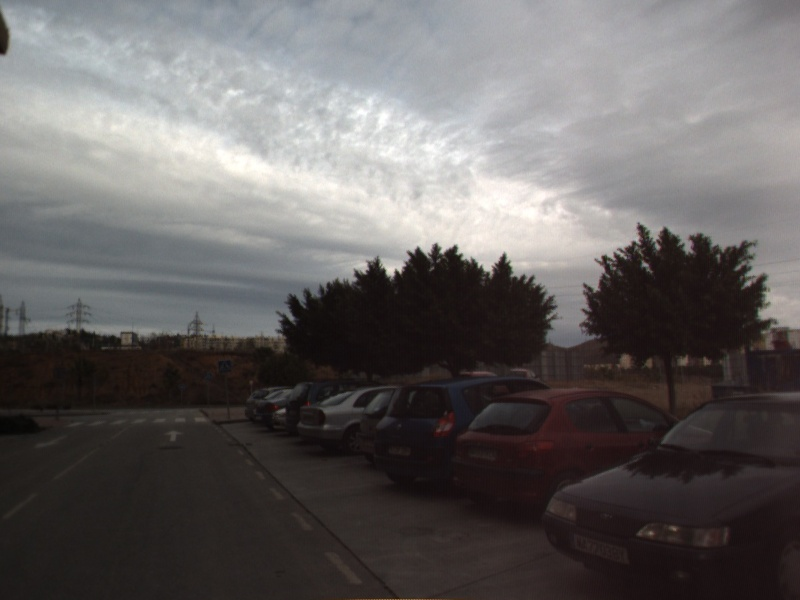STRAIGHT: (162, 428, 186, 443)
